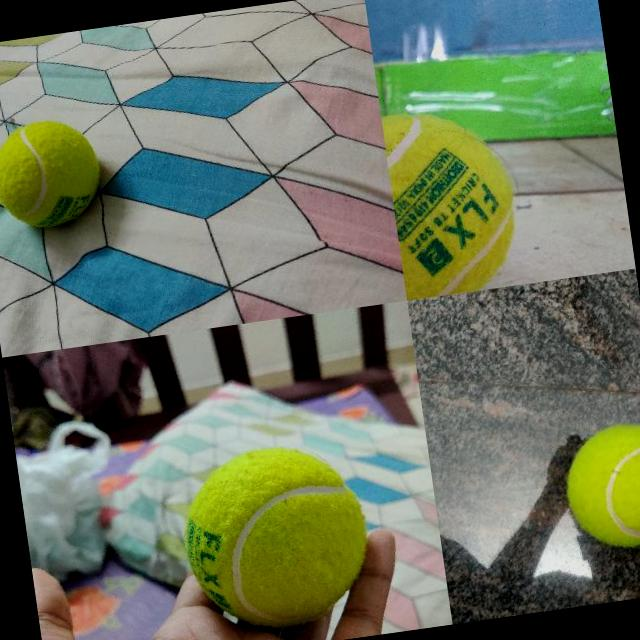tennis-ball: (171, 435, 378, 640), (381, 98, 528, 300), (0, 113, 105, 231), (558, 419, 640, 557)
